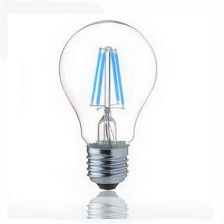light_bulb: (50, 15, 165, 193)
